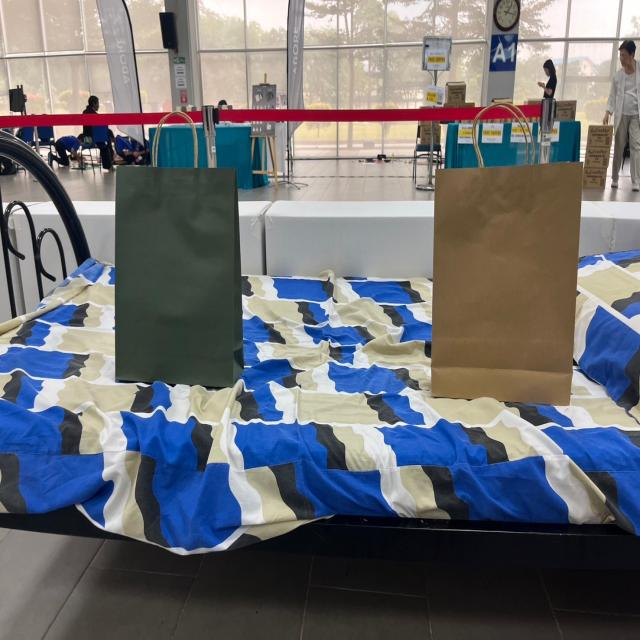bag: (444, 91, 569, 405), (128, 93, 232, 373)
